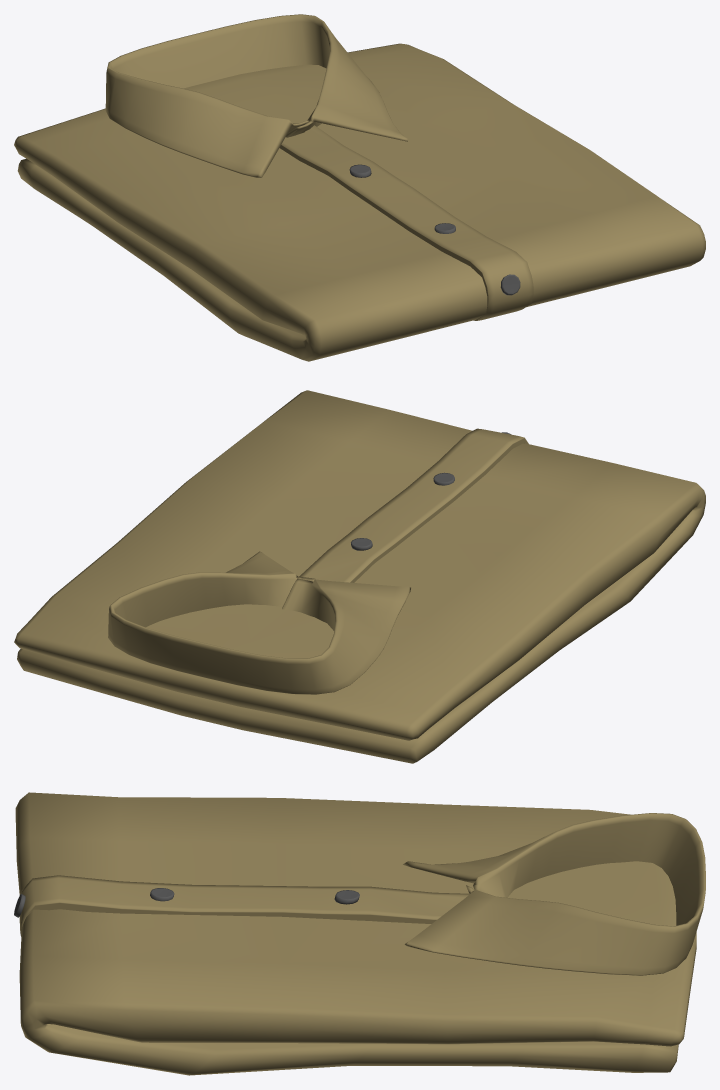
File: Folded_Shirt12.fbx
3 renders of one model, top to bottom at view 1: azimuth 30°, elevation 25°; view 2: azimuth 150°, elevation 25°; view 3: azimuth 270°, elevation 25°, orthographic. The views are drawn at different scales.
Visible parts, largest first — view 1: Folded_Shirt12; view 2: Folded_Shirt12; view 3: Folded_Shirt12.
Part boxes in pixels (x1,y1,x2,y2): Folded_Shirt12: (14, 14, 705, 361); Folded_Shirt12: (14, 390, 705, 763); Folded_Shirt12: (14, 792, 705, 1075).
Size of the model in its own units: 25.02 by 5.51 by 33.24.
